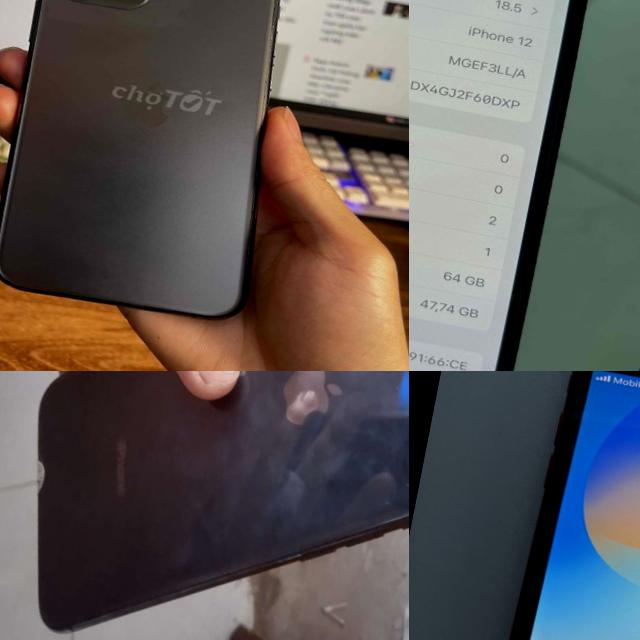gen_11: (0, 0, 326, 330)
gen_12_13: (409, 0, 619, 371)
gen_7_8: (448, 371, 640, 640)
gen_x_xs: (38, 371, 409, 631)
